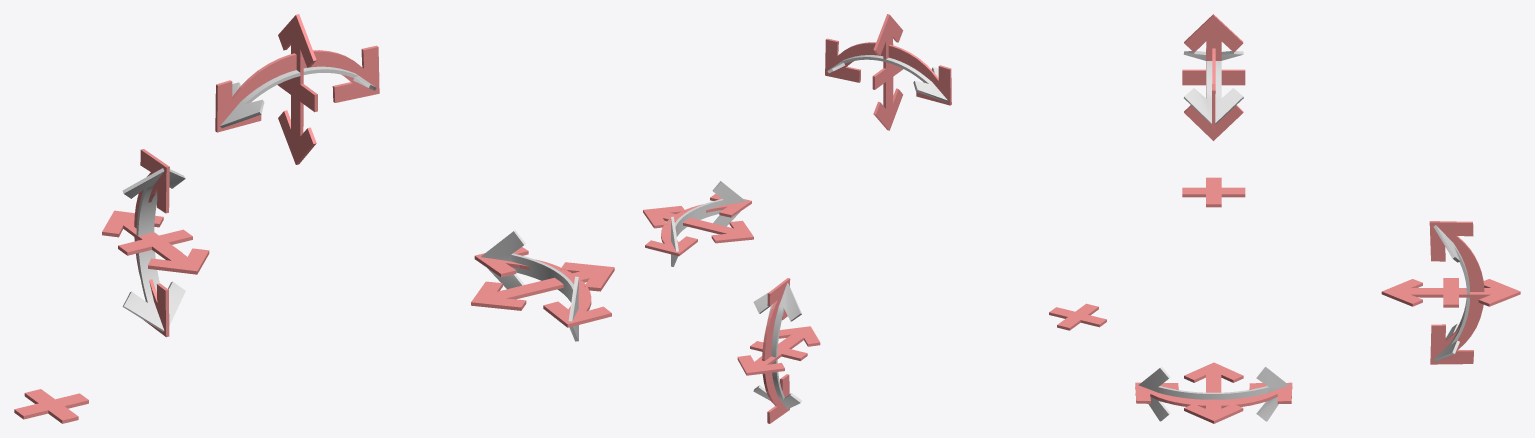
The model's file is CustomGizmo.FBX.
3 views of the same model, side by side, from view 1: azimuth 30°, elevation 25°; view 2: azimuth 150°, elevation 25°; view 3: azimuth 270°, elevation 25° (orthographic). The views are drawn at different scales.
Parts seen in each view (by area): view 1: rotate_x (×2), rotate_z (×2), rotate_y (×2), move_z, move_y, move_x, scale_z, scale_y, scale_x; view 2: rotate_x (×2), rotate_z (×2), rotate_y (×2), move_z, move_y, move_x, scale_z, scale_x, scale_y; view 3: rotate_z (×2), rotate_y (×2), move_y, rotate_x, move_x, move_z, scale_y, scale_z, scale_x.
Part boxes in pixels (x1=…): rotate_x (×2): x1=215, y1=45, x2=379, y2=132; rotate_z (×2): x1=122, y1=149, x2=185, y2=337; rotate_y (×2): x1=474, y1=230, x2=611, y2=341; move_z: x1=471, y1=262, x2=614, y2=310; move_y: x1=278, y1=14, x2=316, y2=164; move_x: x1=102, y1=210, x2=209, y2=274; scale_z: x1=14, y1=389, x2=88, y2=423; scale_y: x1=277, y1=52, x2=317, y2=127; scale_x: x1=118, y1=229, x2=192, y2=259; rotate_x (×2): x1=825, y1=38, x2=951, y2=105; rotate_z (×2): x1=753, y1=278, x2=801, y2=423; rotate_y (×2): x1=645, y1=181, x2=751, y2=266; move_z: x1=643, y1=206, x2=753, y2=243; move_y: x1=873, y1=14, x2=903, y2=130; move_x: x1=737, y1=326, x2=820, y2=375; scale_z: x1=1049, y1=303, x2=1106, y2=330; scale_x: x1=750, y1=338, x2=807, y2=363; scale_y: x1=872, y1=44, x2=903, y2=101; rotate_z (×2): x1=1429, y1=221, x2=1484, y2=364; rotate_y (×2): x1=1135, y1=366, x2=1292, y2=421; move_y: x1=1184, y1=14, x2=1243, y2=140; rotate_x: x1=1183, y1=51, x2=1243, y2=124; move_x: x1=1381, y1=279, x2=1520, y2=306; move_z: x1=1184, y1=362, x2=1243, y2=423; scale_y: x1=1182, y1=48, x2=1245, y2=97; scale_z: x1=1182, y1=177, x2=1245, y2=207; scale_x: x1=1419, y1=278, x2=1482, y2=307.
Bounding box in the file's own units: 364 × 243 × 243.
